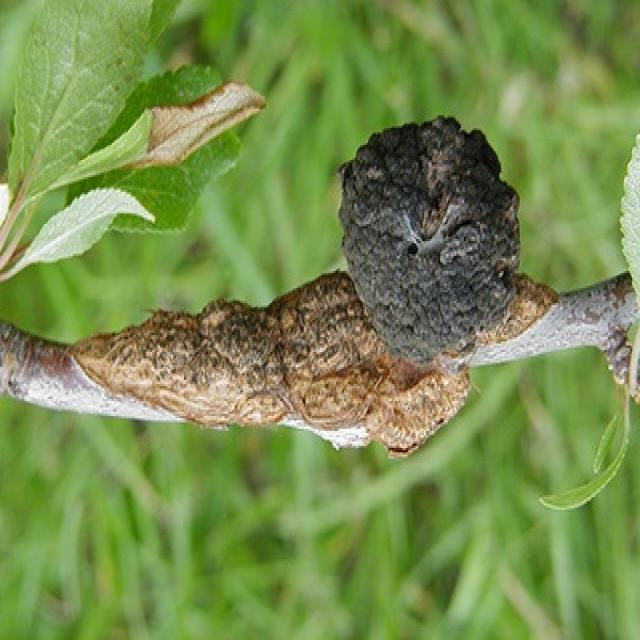Black_knot: (334, 111, 525, 363)
